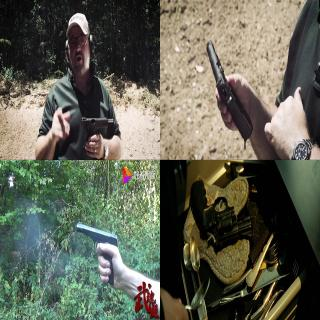gun: (188, 174, 254, 258), (204, 37, 253, 148), (75, 218, 118, 294), (79, 114, 113, 152)
